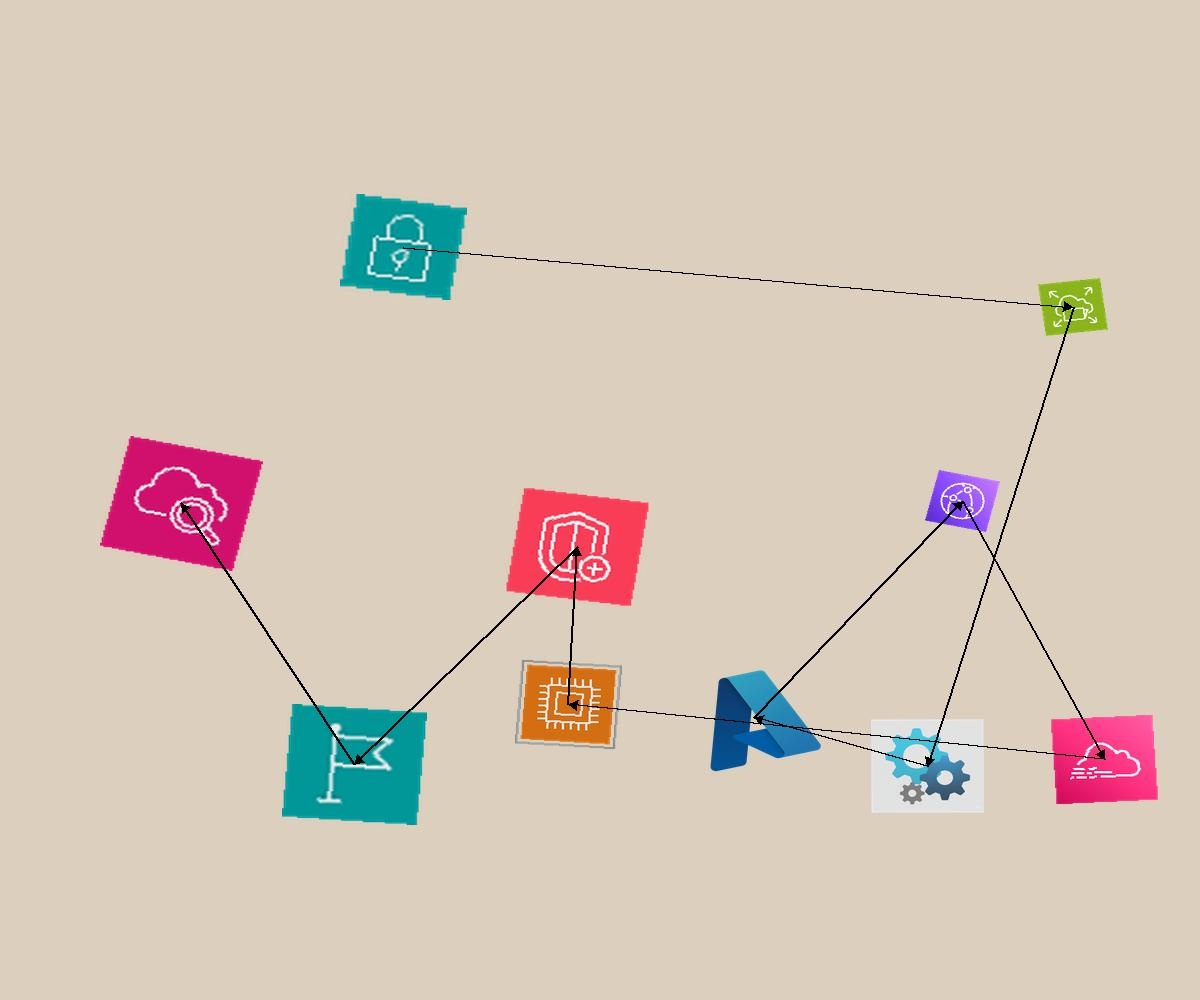AWS-Category_Compute: (514, 659, 623, 750)
AWS-CloudFront: (925, 470, 1000, 532)
AWS-CloudTrail: (1050, 714, 1159, 805)
AWS-CloudWatch: (100, 436, 263, 571)
AWS-EFS: (1038, 278, 1108, 336)
AWS-Private-subnet: (340, 194, 467, 300)
AWS-Region: (282, 704, 427, 825)
AWS-Shield: (505, 487, 650, 607)
Azure_api: (871, 719, 984, 813)
Azure_services: (679, 655, 829, 780)
